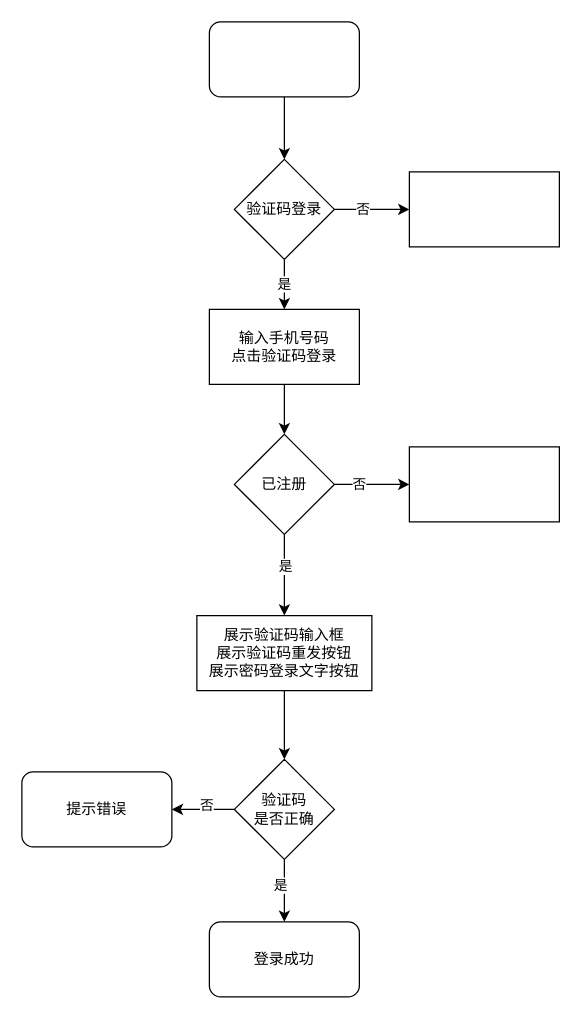
This 581x1019 diagram has some shape labels left out. The centre of each missing label's shape, as x and y in pixels:
密码登录: (x=483, y=209)
展示验证码输入框 展示密码输入框: (x=483, y=484)
登录: (x=283, y=59)
